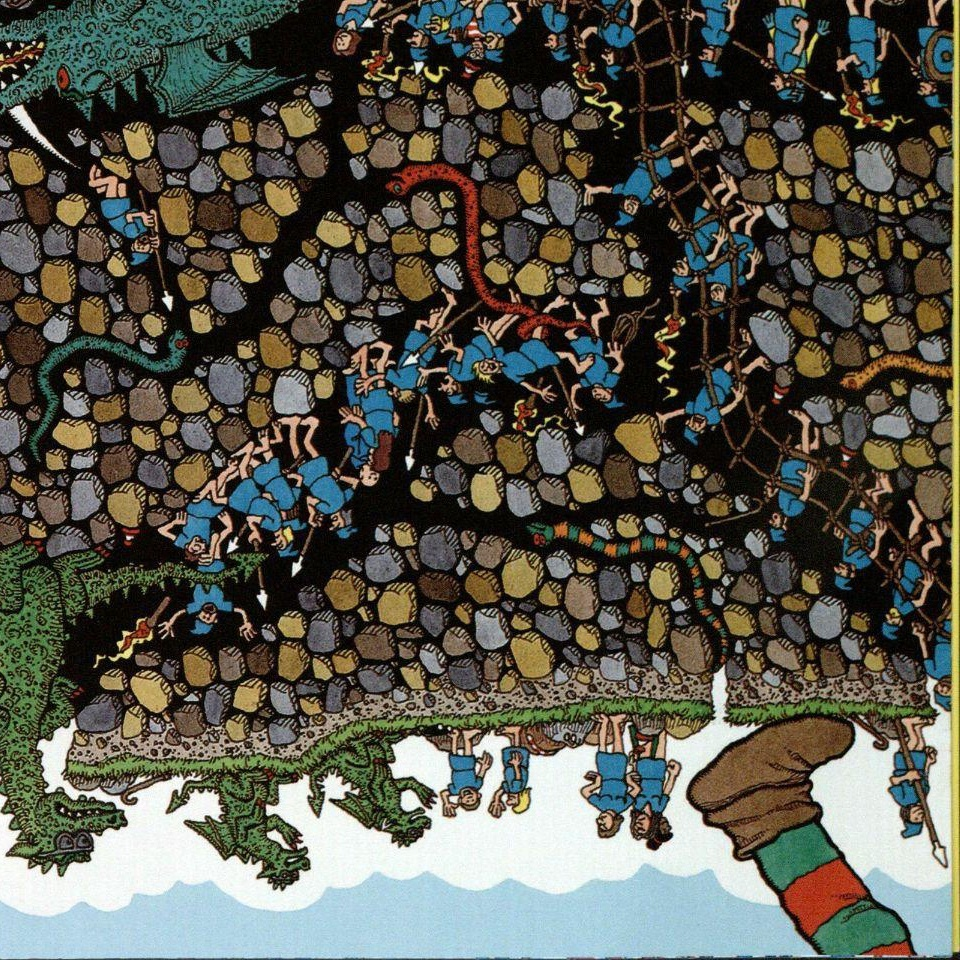waldo: (462, 43, 486, 78)
